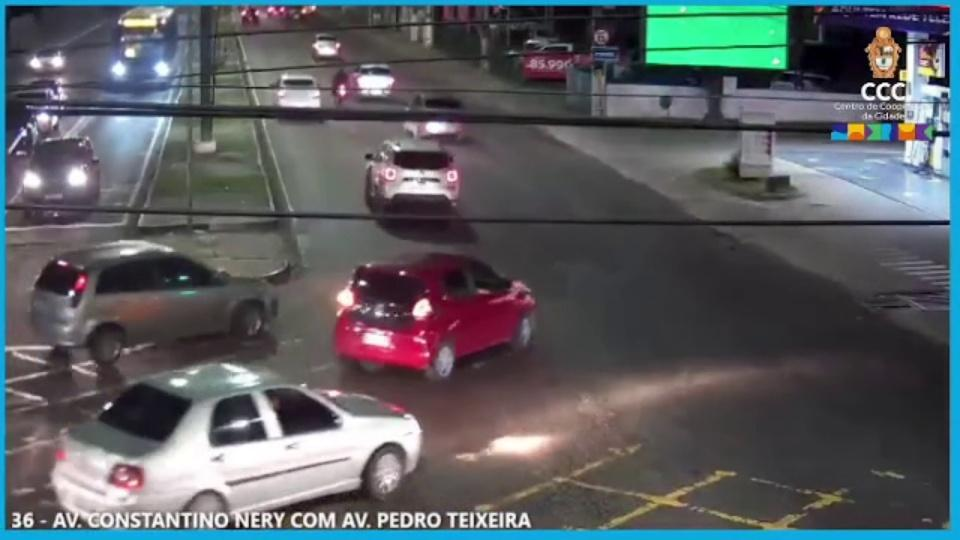car: (52, 360, 426, 520), (24, 240, 279, 364), (328, 247, 533, 384), (360, 138, 464, 220), (20, 139, 104, 221), (269, 74, 325, 112), (31, 41, 65, 78), (309, 32, 342, 61)
truck: (108, 7, 181, 88)
